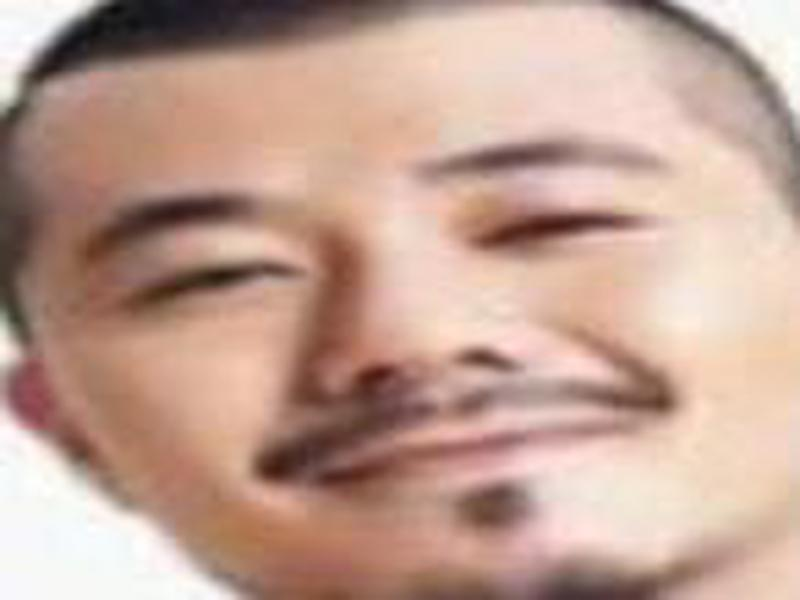without_mask: (16, 42, 783, 582)
